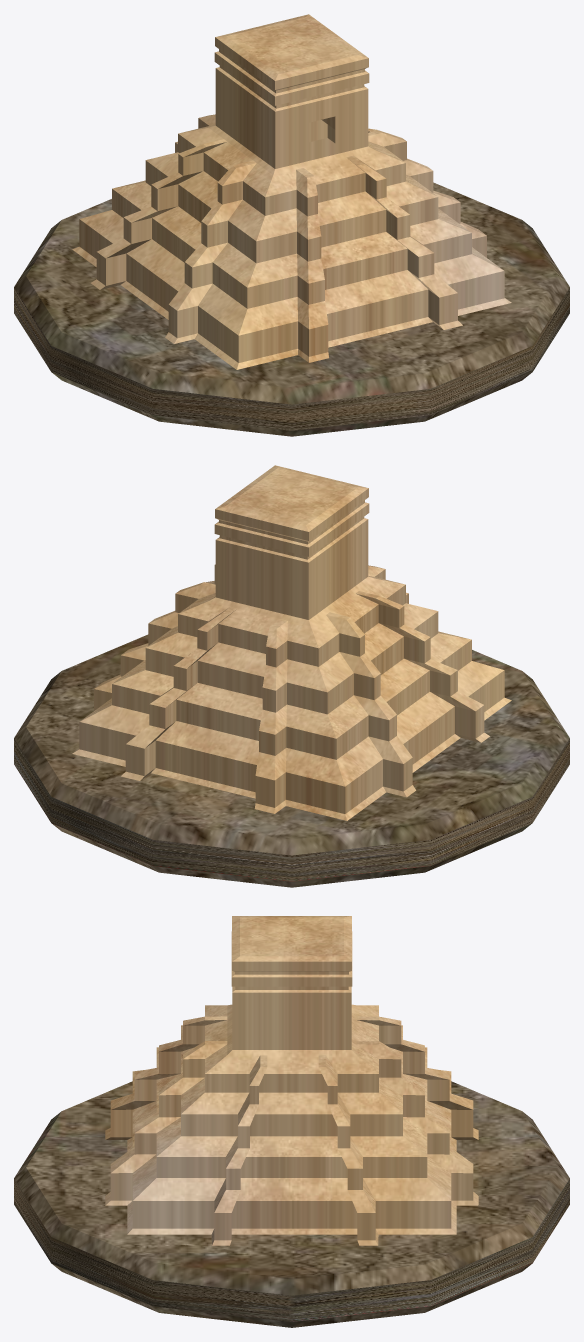
File: Figurine2.FBX
3 renders of one model, top to bottom at view 1: azimuth 30°, elevation 25°; view 2: azimuth 150°, elevation 25°; view 3: azimuth 270°, elevation 25°, orthographic.
Visible parts, largest first — view 1: Figurine2, Figurine2_Base; view 2: Figurine2, Figurine2_Base; view 3: Figurine2, Figurine2_Base.
Part boxes in pixels (x1,y1,x2,y2): Figurine2: (72, 14, 511, 369); Figurine2_Base: (14, 182, 569, 436); Figurine2: (72, 465, 511, 820); Figurine2_Base: (14, 634, 569, 887); Figurine2: (105, 916, 478, 1245); Figurine2_Base: (14, 1081, 569, 1327).
Size of the model in its own units: 24.03 by 13.32 by 24.03.
2 materials, 2 textured.
